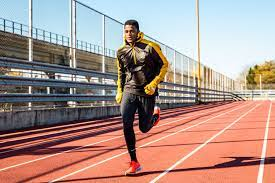person: (112, 18, 170, 176)
